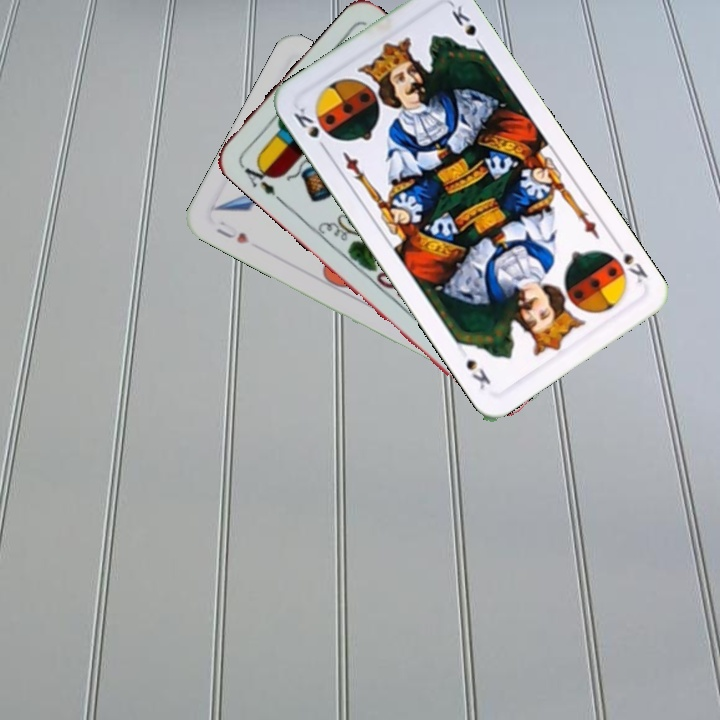EA: (240, 157, 279, 199)
HU: (211, 216, 252, 246)
SK: (289, 103, 331, 155), (610, 237, 651, 286)
